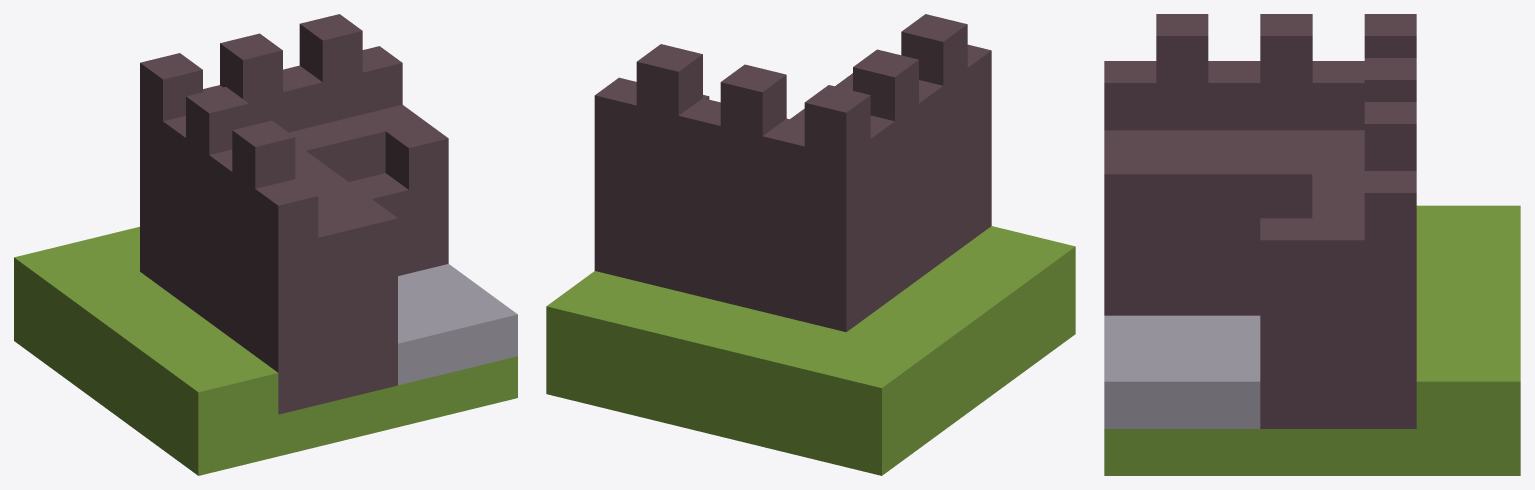
The model's file is wall_turn.obj.
3 renders of one model, left to right at view 1: azimuth 30°, elevation 25°; view 2: azimuth 150°, elevation 25°; view 3: azimuth 270°, elevation 25°, orthographic. The views are drawn at different scales.
Bounding box in the file's own units: 0.8 × 0.7 × 0.8.
Materials: 1 (1 with a texture image).
